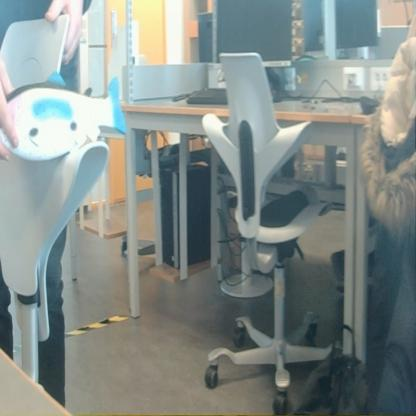rubberfish: (0, 67, 135, 169)
